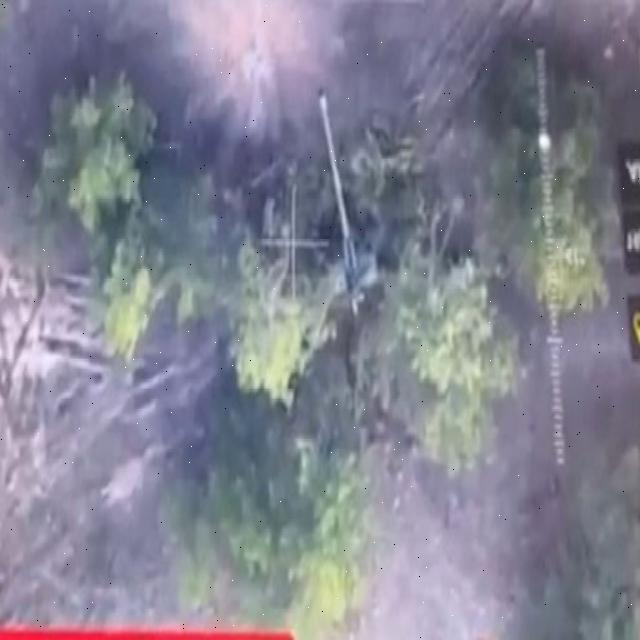ART: (314, 83, 392, 304)
